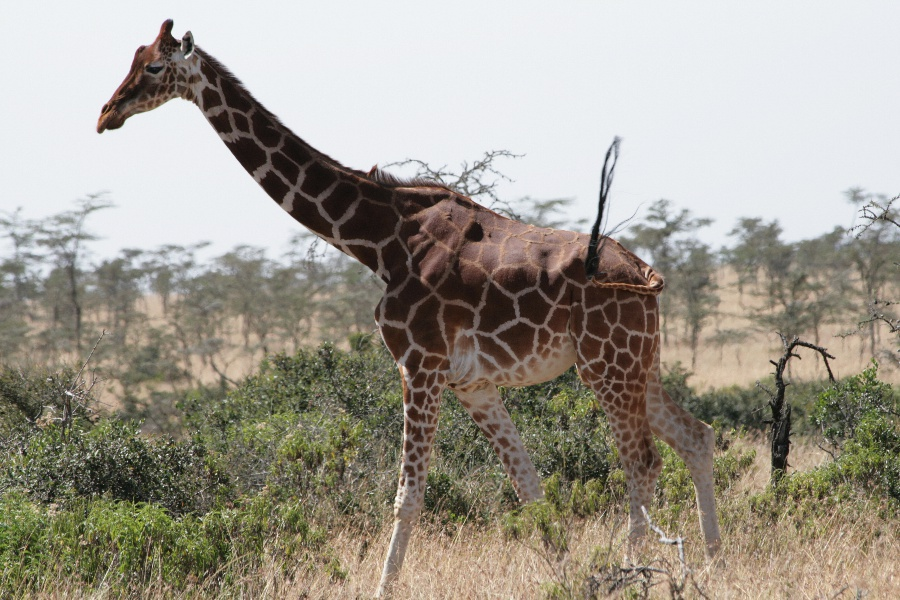giraffe: (78, 9, 740, 580)
